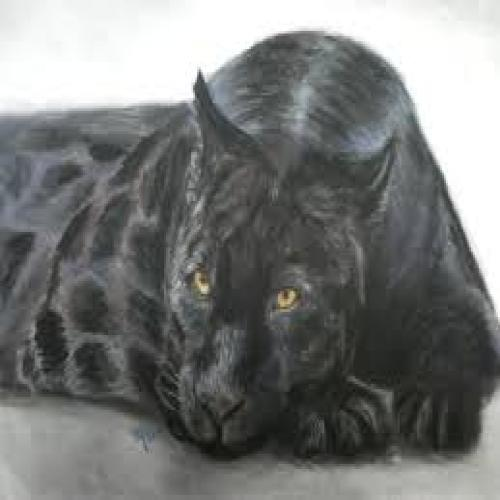panther-endangered: (4, 33, 495, 449)
